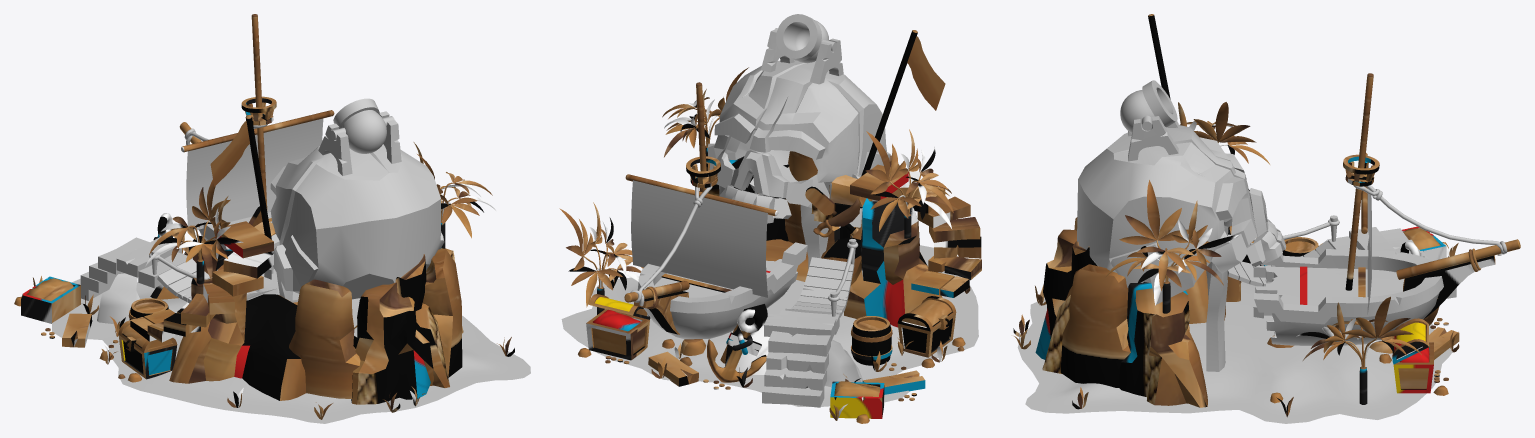
3 views of the same model, side by side, from view 1: azimuth 30°, elevation 25°; view 2: azimuth 150°, elevation 25°; view 3: azimuth 270°, elevation 25° (orthographic). The views are drawn at different scales.
Visible parts, largest first — view 1: island_2; view 2: island_2; view 3: island_2.
Boxes of the visible parts, x1,y1,x2,y2 form: island_2: [14, 14, 530, 423]; island_2: [559, 14, 981, 423]; island_2: [1013, 14, 1520, 423].
Size of the model in its own units: 8.78 by 6.47 by 10.45.
